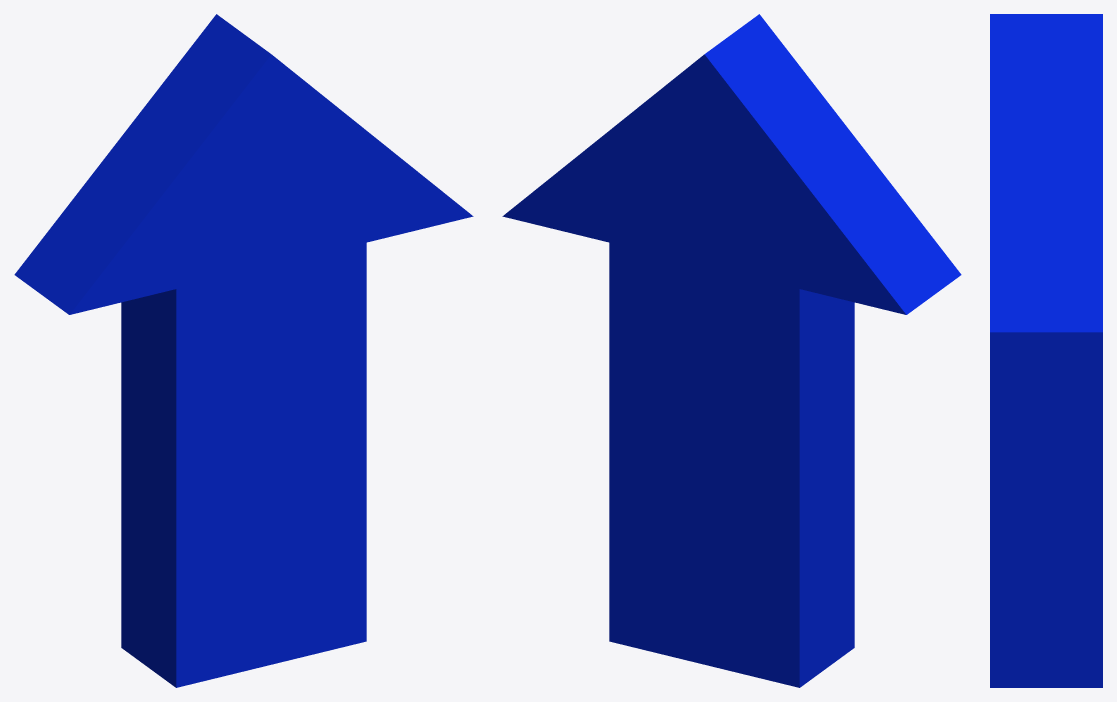
File: pijl_blauw.gltf
3 renders of one model, left to right at view 1: azimuth 30°, elevation 25°; view 2: azimuth 150°, elevation 25°; view 3: azimuth 270°, elevation 25°, orthographic. The views are drawn at different scales.
Visible parts, largest first — view 1: Cube, Cube.001; view 2: Cube, Cube.001; view 3: Cube, Cube.001.
Boxes of the visible parts, box(x1,y1,x2,y2) form: Cube: box(121, 242, 366, 687); Cube.001: box(14, 14, 473, 314); Cube: box(609, 242, 854, 687); Cube.001: box(502, 14, 961, 314); Cube: box(990, 332, 1102, 687); Cube.001: box(990, 14, 1102, 332).
Size of the model in its own units: 4.24 by 6.12 by 1.
